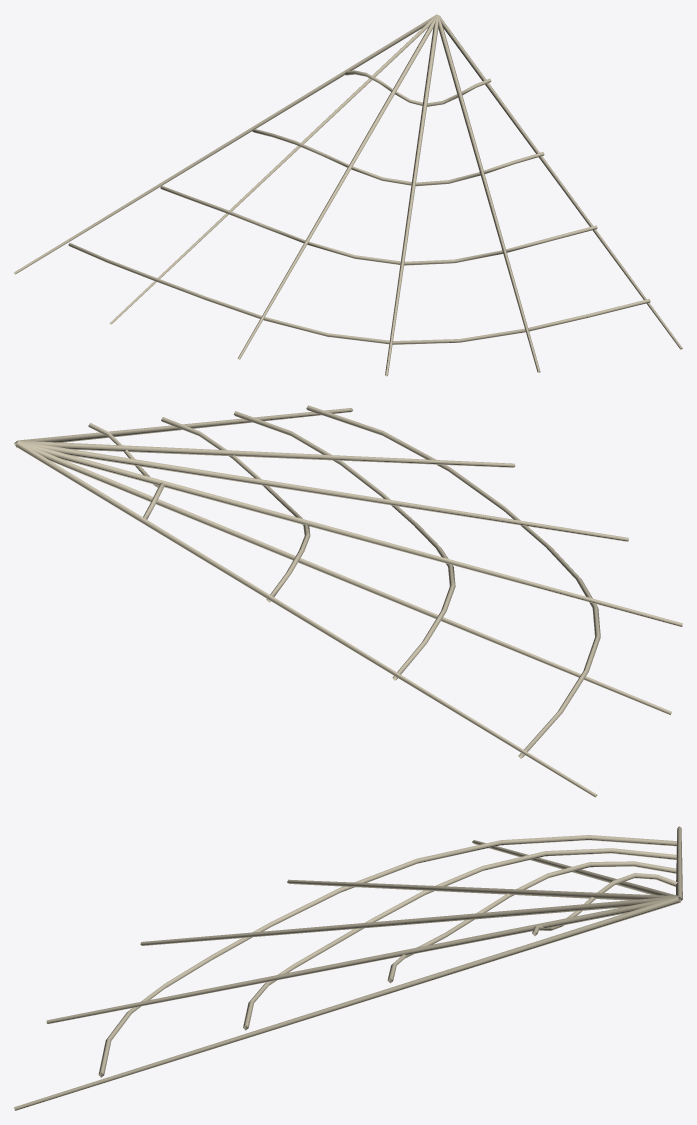
File: kit_d_cobweb.glb
3 renders of one model, top to bottom at view 1: azimuth 30°, elevation 25°; view 2: azimuth 150°, elevation 25°; view 3: azimuth 270°, elevation 25°, orthographic. The views are drawn at different scales.
Parts seen in each view (by area): view 1: kit_d_cobweb; view 2: kit_d_cobweb; view 3: kit_d_cobweb.
Boxes of the visible parts, bbox=[...] form: kit_d_cobweb: bbox=[14, 14, 682, 376]; kit_d_cobweb: bbox=[14, 405, 682, 797]; kit_d_cobweb: bbox=[14, 826, 682, 1110].
Size of the model in its own units: 0.463 by 0.1638 by 0.463.
